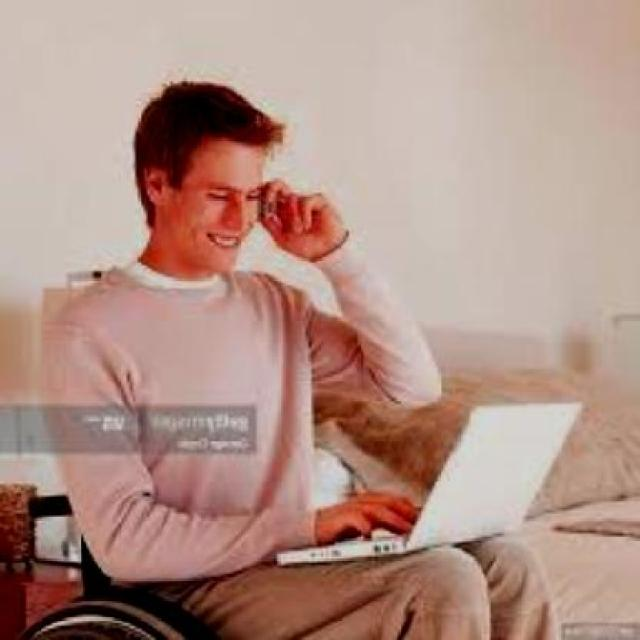wheelchairs: (22, 497, 238, 640)
